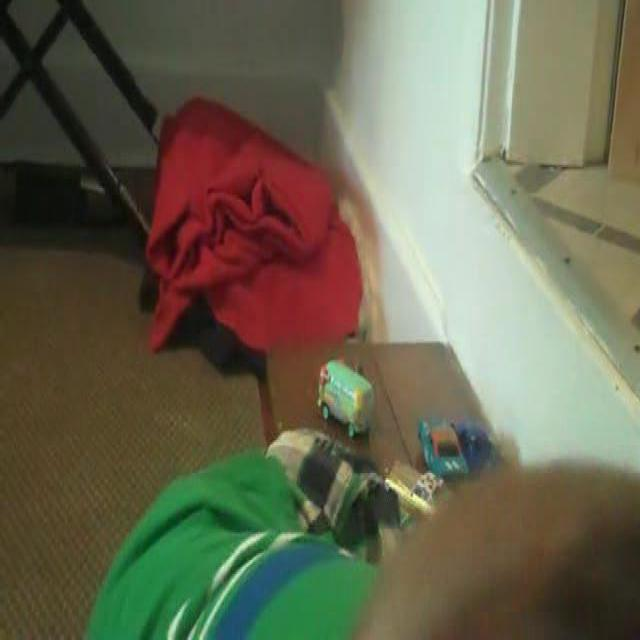other: (141, 110, 392, 350), (389, 440, 464, 514)
